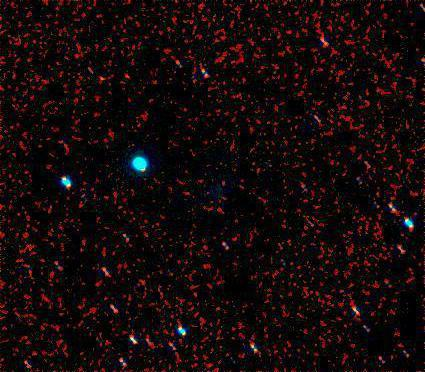star: (81, 57, 111, 87)
